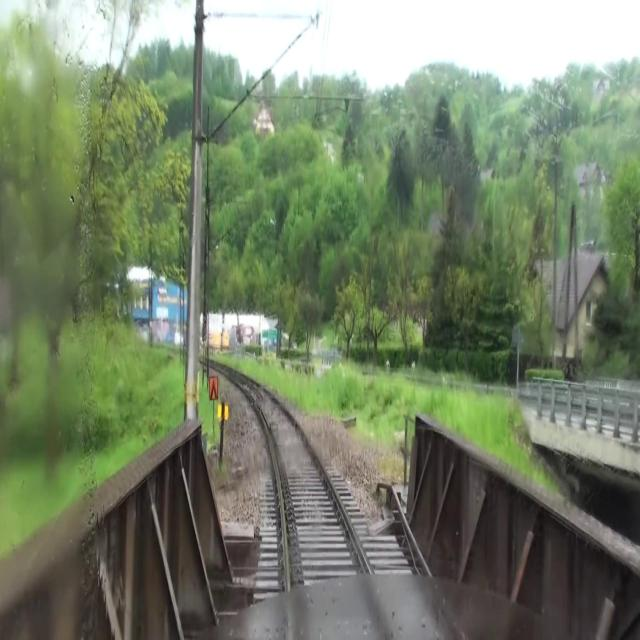rail-track: (225, 369, 388, 639)
